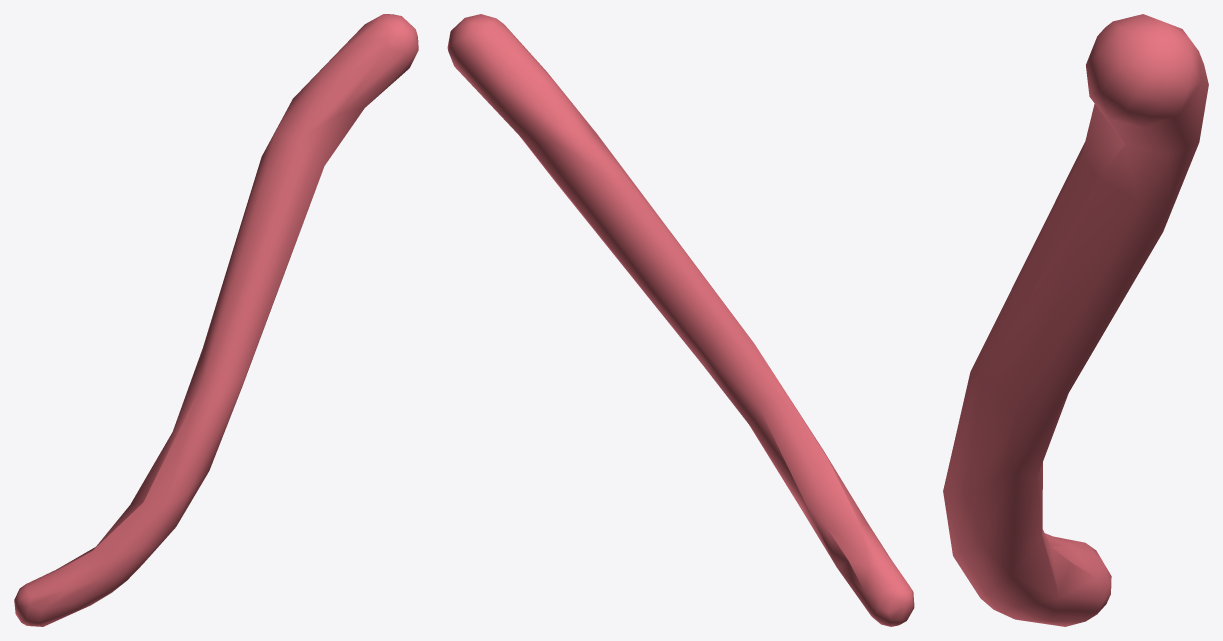
The model's file is fma86346_fj2043.glb.
3 views of the same model, side by side, from view 1: azimuth 30°, elevation 25°; view 2: azimuth 150°, elevation 25°; view 3: azimuth 270°, elevation 25° (orthographic). The views are drawn at different scales.
Parts seen in each view (by area): view 1: FMA86346_FJ2043; view 2: FMA86346_FJ2043; view 3: FMA86346_FJ2043.
Part boxes in pixels (x1=…): FMA86346_FJ2043: x1=14, y1=14, x2=418, y2=626; FMA86346_FJ2043: x1=447, y1=14, x2=914, y2=626; FMA86346_FJ2043: x1=943, y1=14, x2=1208, y2=626.
Bounding box in the file's own units: 0.03 × 0.0342 × 0.00875.
